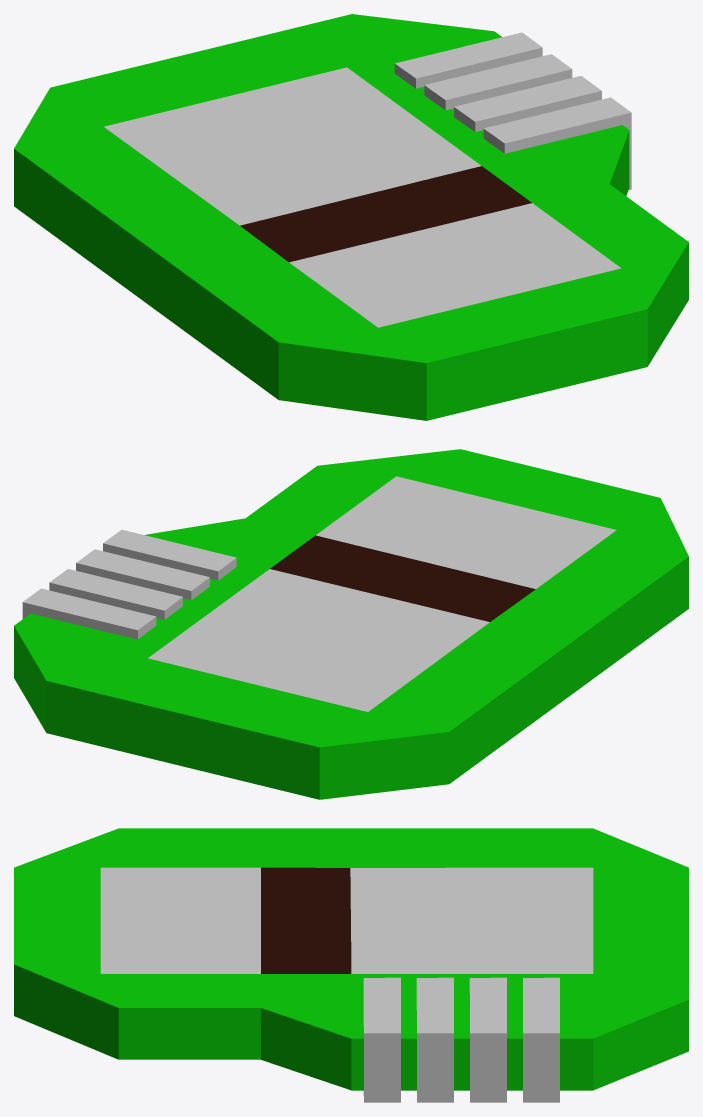
File: KeyCard.fbx
The picture shows the model from 3 angles, top to bottom: view 1: azimuth 30°, elevation 25°; view 2: azimuth 150°, elevation 25°; view 3: azimuth 270°, elevation 25°; orthographic projection. The views are drawn at different scales.
Parts seen in each view (by area): view 1: KeyCard; view 2: KeyCard; view 3: KeyCard.
Boxes of the visible parts, x1,y1,x2,y2 form: KeyCard: (14, 14, 688, 420); KeyCard: (14, 449, 688, 799); KeyCard: (14, 828, 688, 1102).
Size of the model in its own units: 150 by 200 by 22.59.
